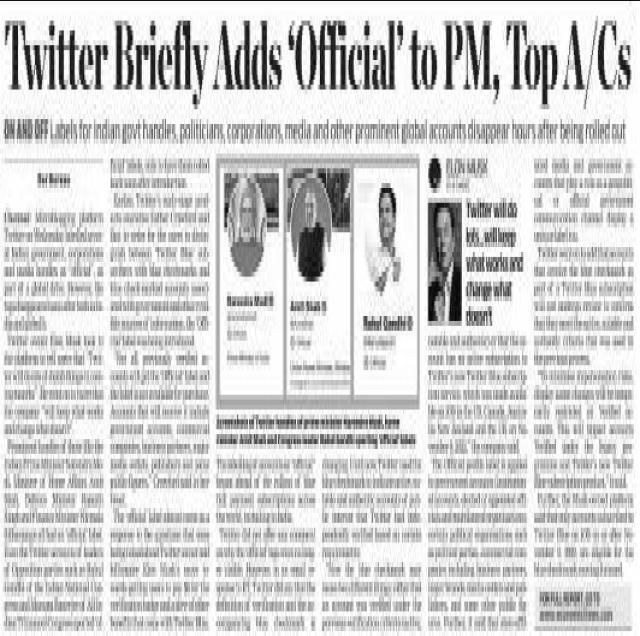paper: (0, 1, 639, 636)
